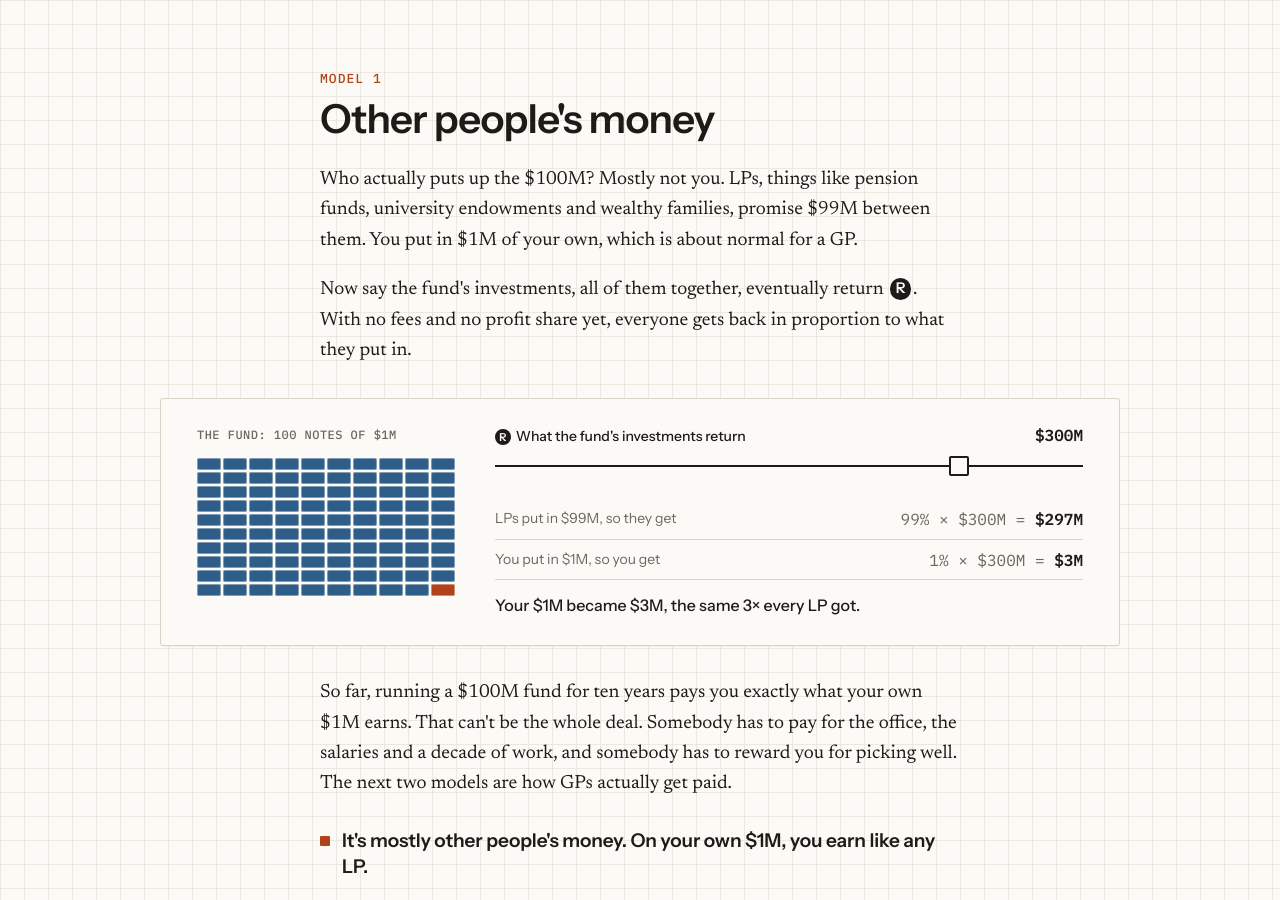
Scenario: Part two, model 1: other people's money › splits what comes back by what went in
This screenshot has width=1280, height=900.
Set the slider named "R, what the fund's investments return" to "2". click: (732, 466)
box: [495,452,1083,480]
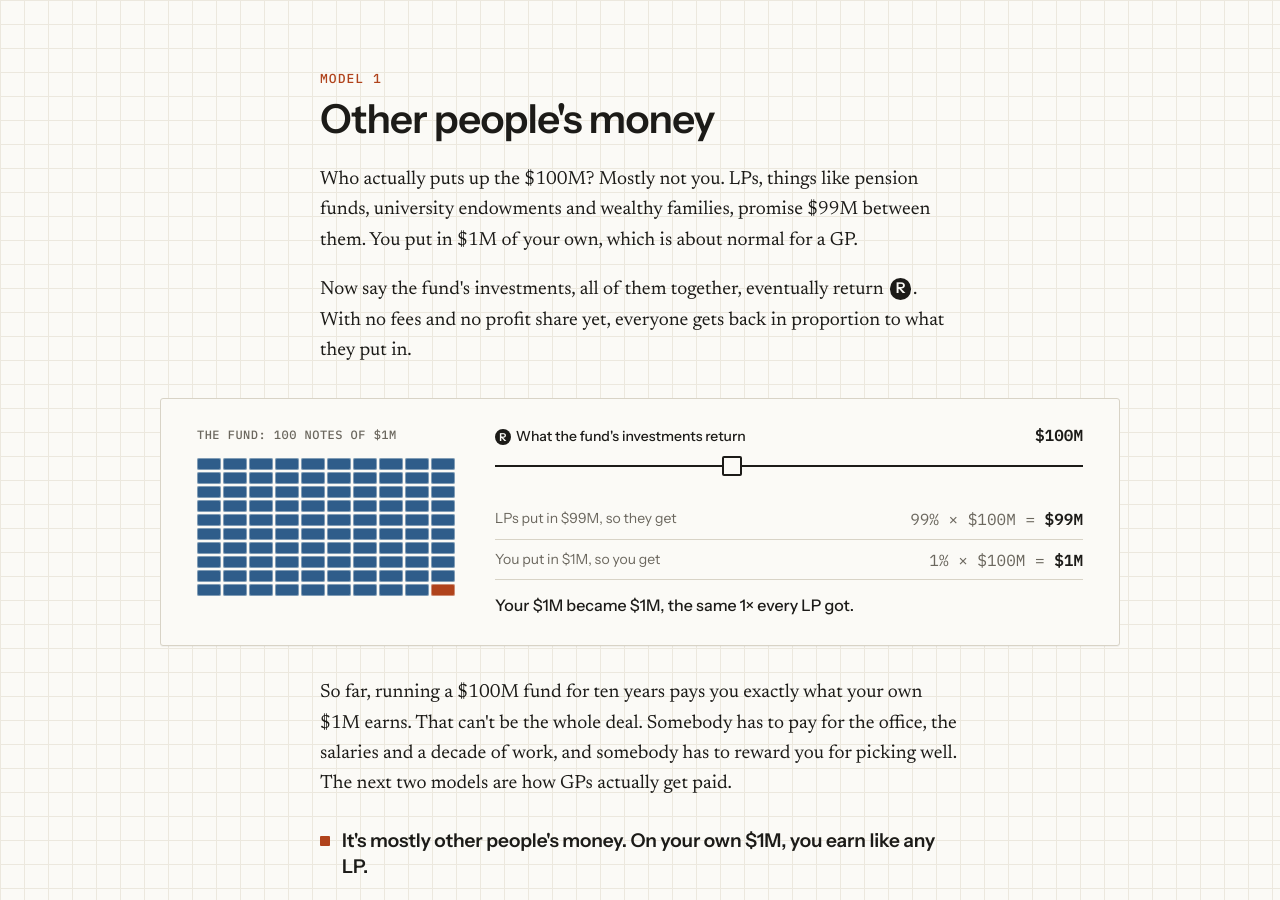
Expected: the element with test id "f1-gp" reads "1% × $100M = $1M", [929,550,1083,571]
